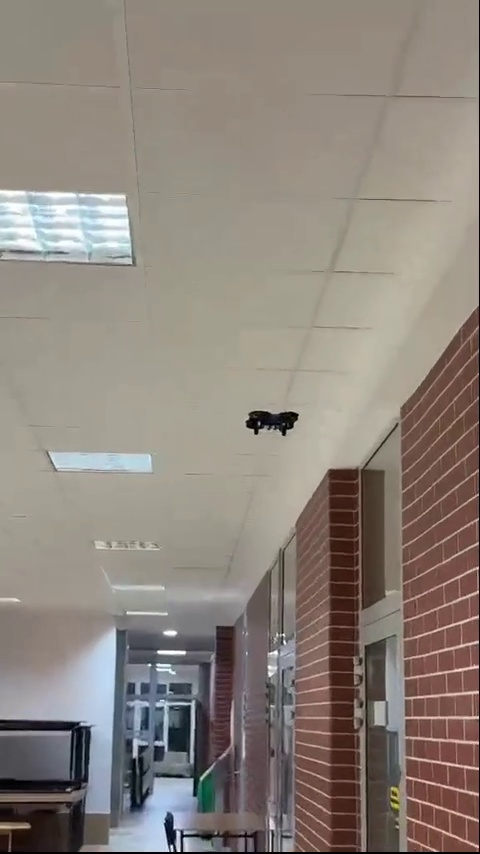drone: (245, 411, 301, 434)
